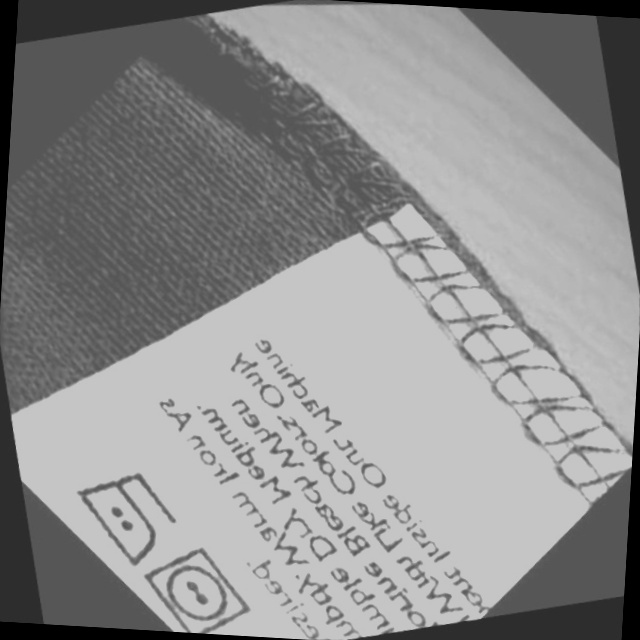iron_medium: (48, 446, 198, 588)
tumble_dry_medium: (121, 523, 270, 637)
